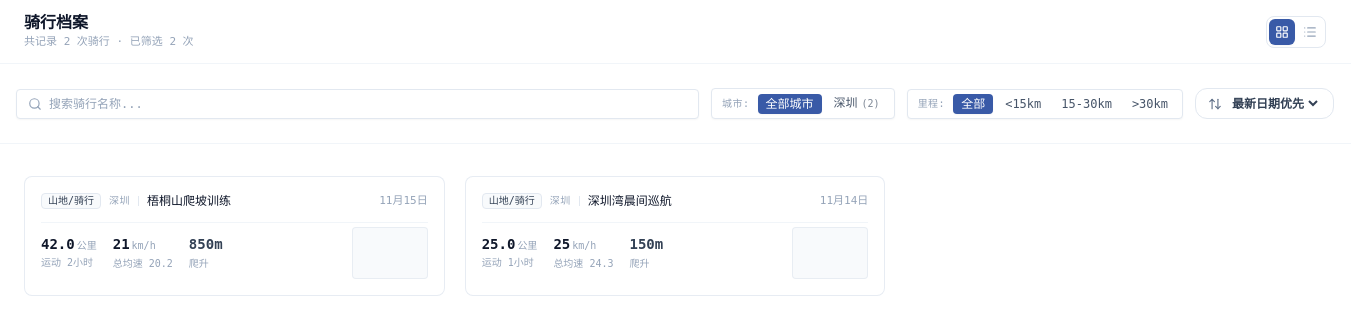
Test: ActivitiesList 骑行列表页面 › 支持搜索过滤
Check: the text "深圳湾晨间巡航" is shown, box [588, 193, 672, 209]
In the field with placeholder "搜索骑行名称...": point(358, 104) [16, 88, 699, 118], type "梧桐山"
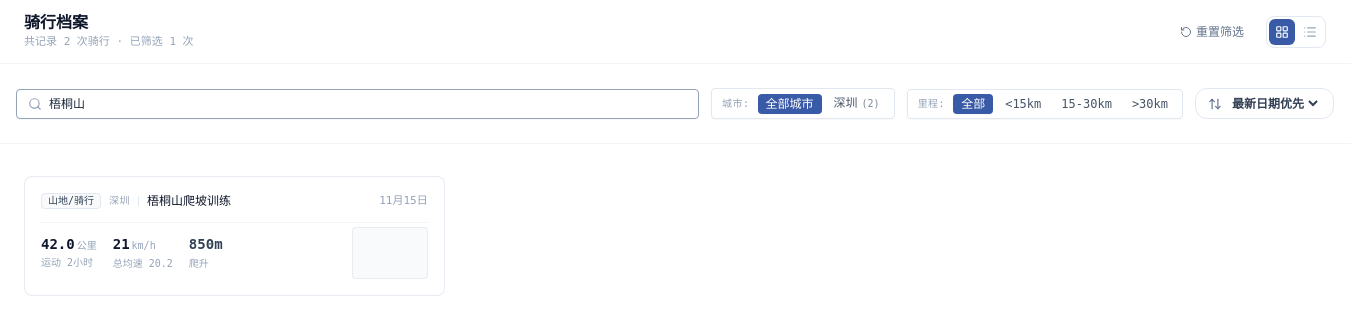
Check: the text "梧桐山爬坡训练" is shown, box [147, 193, 231, 209]
Check: the link "深圳湾晨间巡航" is gone
